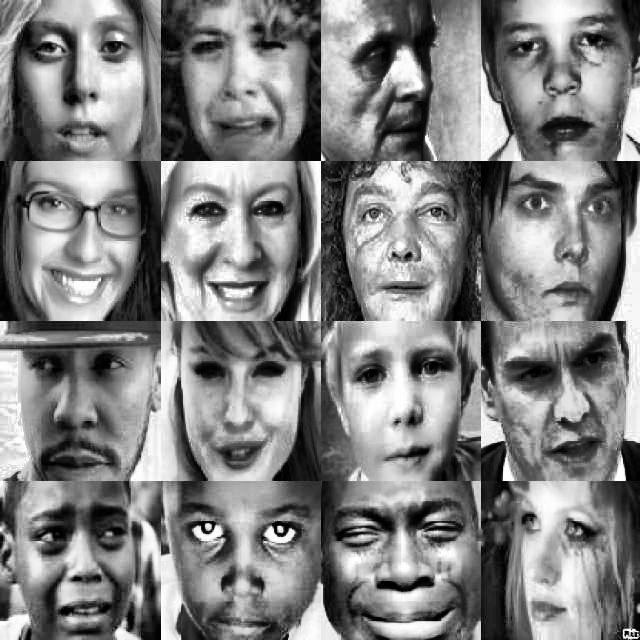angry: (502, 331, 620, 479)
happy: (178, 326, 306, 477), (12, 172, 148, 314), (175, 171, 303, 311), (507, 493, 616, 636)
neutral: (11, 7, 155, 156), (170, 490, 314, 636), (18, 342, 154, 478), (503, 168, 629, 314), (342, 166, 466, 310), (332, 13, 446, 156)
sad: (494, 5, 628, 156), (330, 493, 467, 636), (176, 12, 308, 150), (341, 332, 465, 474), (17, 498, 135, 634)
